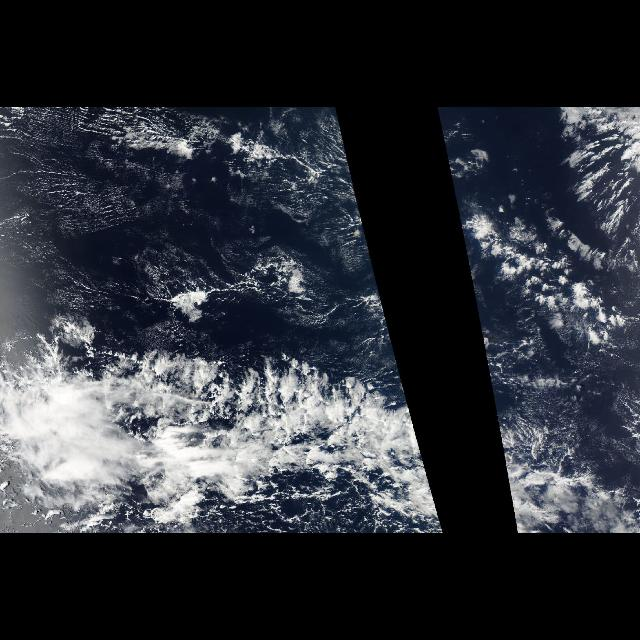Fish: (1, 226, 400, 524)
Sugar: (3, 108, 395, 352)
